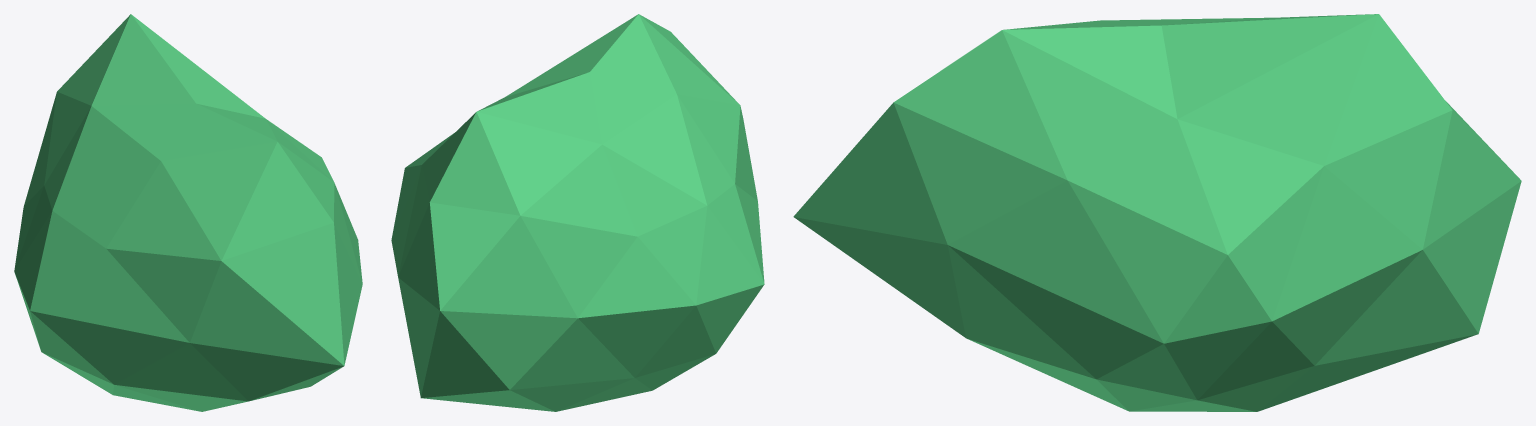
Rendered from Leaves.fbx.
3 renders of one model, left to right at view 1: azimuth 30°, elevation 25°; view 2: azimuth 150°, elevation 25°; view 3: azimuth 270°, elevation 25°, orthographic. The views are drawn at different scales.
Parts seen in each view (by area): view 1: Icosphere; view 2: Icosphere; view 3: Icosphere.
Boxes of the visible parts, left/top/right/bottom form: Icosphere: left=14, top=14, right=362, bottom=411; Icosphere: left=391, top=14, right=764, bottom=411; Icosphere: left=793, top=14, right=1521, bottom=411.
Bounding box in the file's own units: 241 × 226 × 371.
